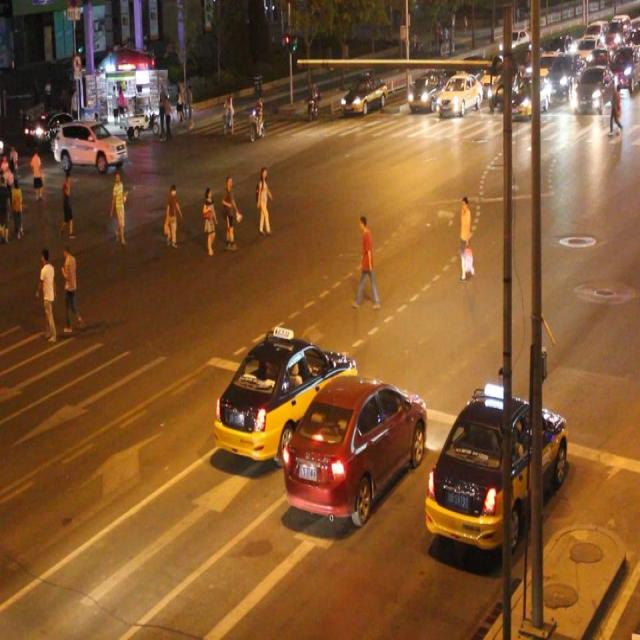car: (424, 394, 565, 555), (284, 377, 424, 519), (214, 330, 354, 468), (54, 121, 127, 172), (435, 72, 481, 118), (341, 70, 386, 116), (407, 71, 445, 112)
